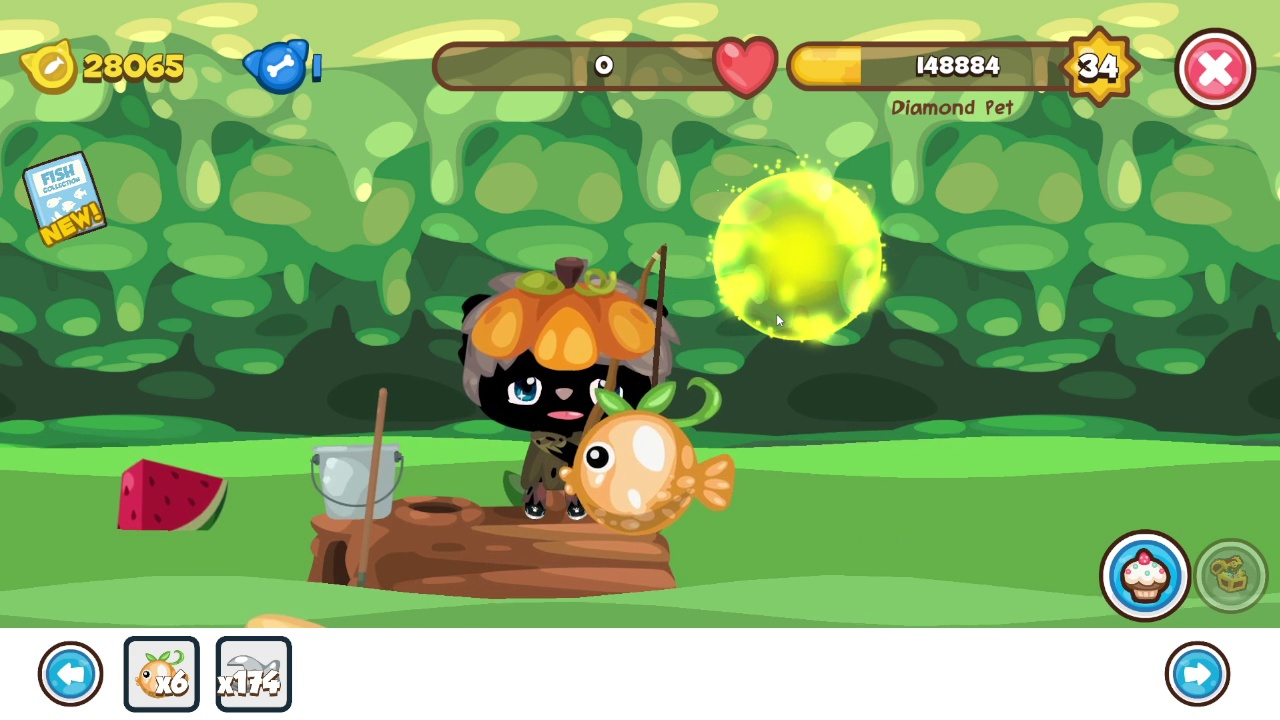point: (711, 168, 889, 343)
